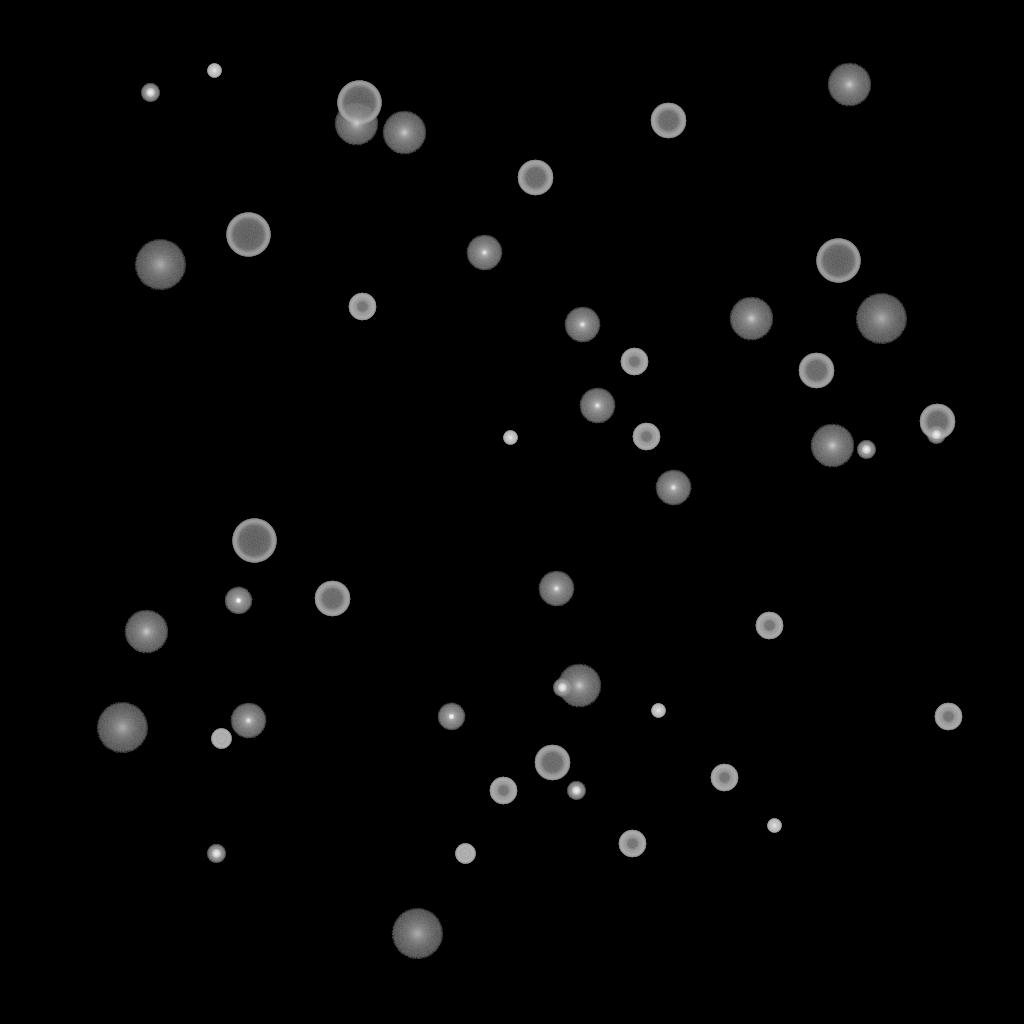depth:-10: (437, 703, 465, 731), (224, 587, 252, 615)
depth:-20: (553, 679, 571, 697), (141, 84, 159, 102), (207, 845, 225, 863), (567, 782, 585, 800), (857, 441, 875, 459), (927, 426, 945, 444)
depth:-30: (651, 704, 665, 718), (767, 819, 781, 833), (503, 431, 517, 445), (207, 64, 221, 78)
depth:-40: (211, 729, 231, 749), (455, 844, 475, 864)
depth:-50: (710, 764, 738, 792), (632, 423, 660, 451), (489, 777, 517, 805), (348, 293, 376, 321), (934, 703, 962, 731), (618, 830, 646, 858), (755, 612, 783, 640), (620, 348, 648, 376)
depth:-60: (798, 353, 834, 389), (517, 160, 553, 196), (534, 745, 570, 781), (650, 103, 686, 139), (314, 581, 350, 617), (919, 404, 955, 440)
depth:-70: (226, 213, 270, 257), (816, 239, 860, 283), (232, 519, 276, 563), (337, 81, 381, 125)
depth:0: (655, 470, 691, 506), (466, 235, 502, 271), (230, 703, 266, 739), (538, 571, 574, 607), (579, 388, 615, 424), (564, 307, 600, 343)
depth:10: (124, 610, 168, 654), (827, 63, 871, 107), (382, 111, 426, 155), (729, 297, 773, 341), (334, 102, 378, 146), (810, 424, 854, 468), (557, 664, 601, 708)
depth:20: (96, 703, 148, 753), (391, 909, 443, 959), (134, 240, 186, 290), (855, 294, 907, 344)
